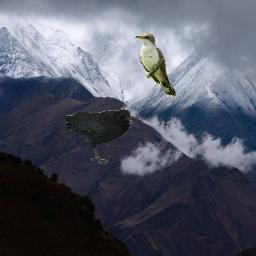Crow: (66, 109, 132, 164)
Cuckoo: (135, 32, 176, 97)
